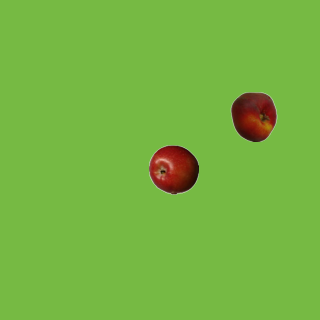Apple Braeburn: (148, 144, 198, 194)
Nectarine Flat: (228, 91, 278, 141)
